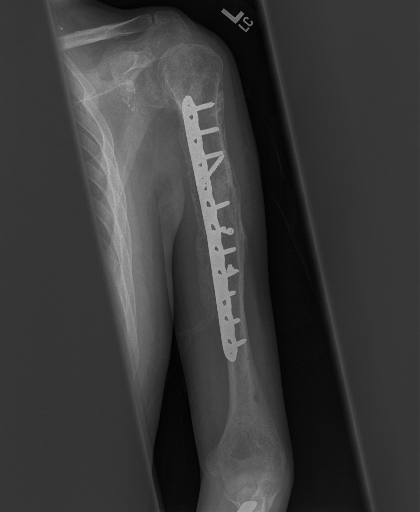implant: (182, 94, 248, 361)
